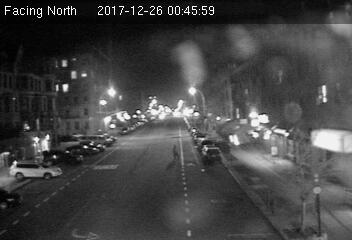car: (201, 145, 221, 163)
